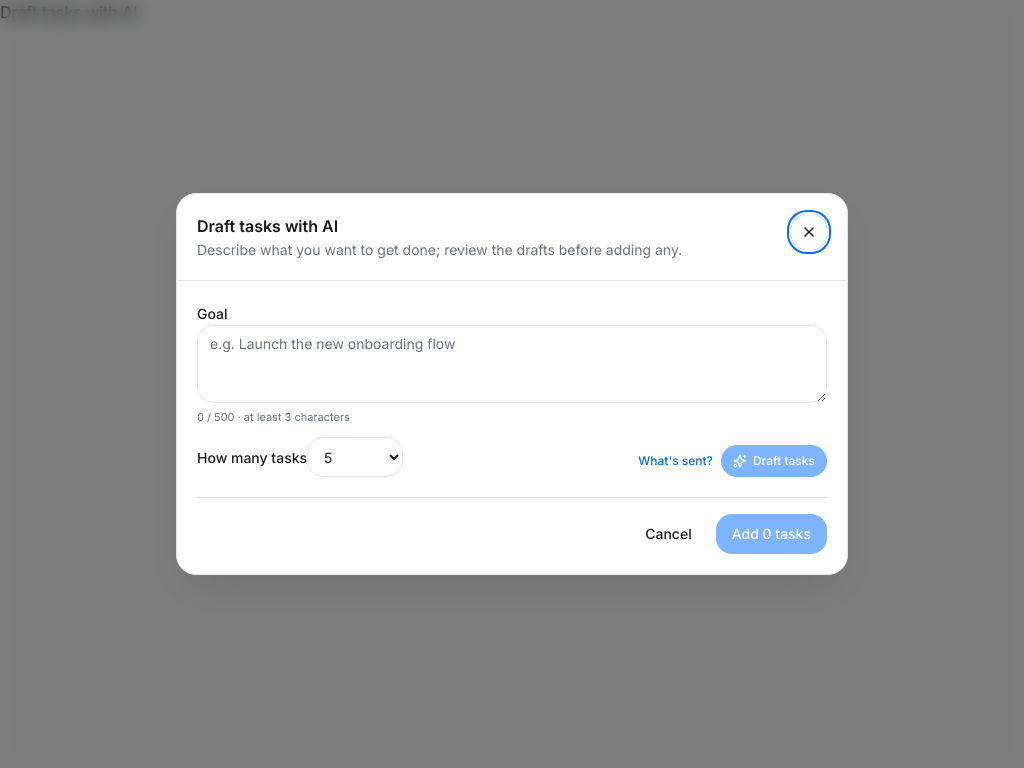
Test: reviewing and adding › creates nothing until Add, then each ticked draft as edited, one by one
Type "Launch the new onboarding" into the text box labelled "Goal" at {"x": 512, "y": 364}, box 197,325 -> 827,403
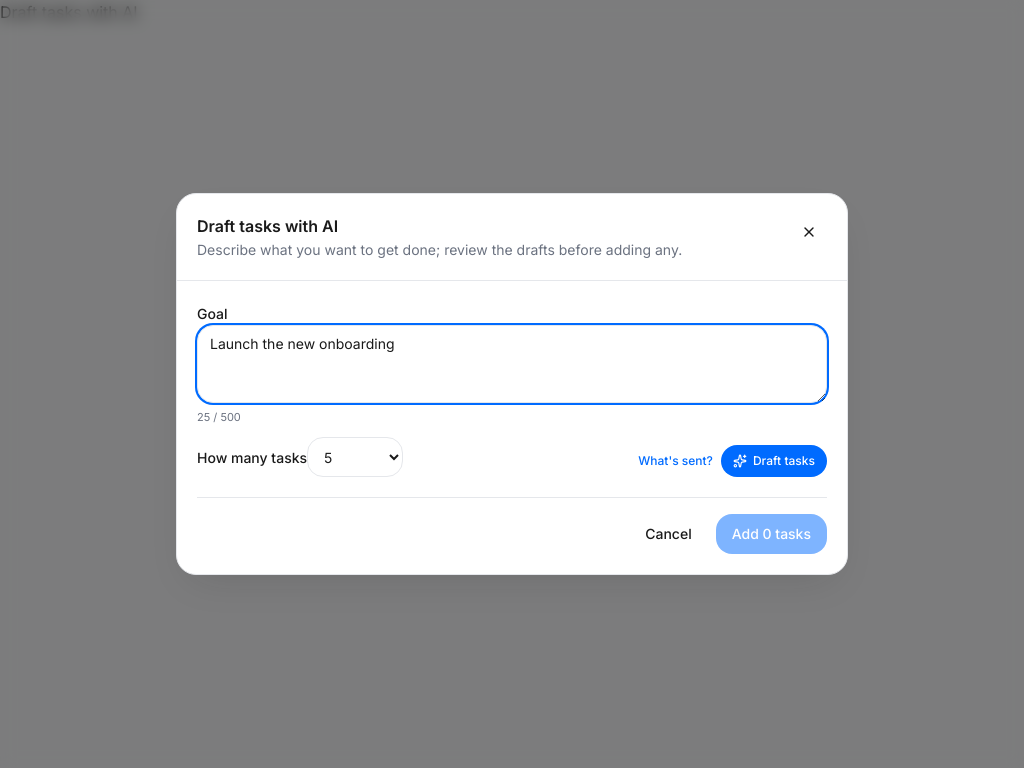
Click the button "Draft tasks" at {"x": 774, "y": 461}, box 721,445 -> 827,477
(page scrolled)
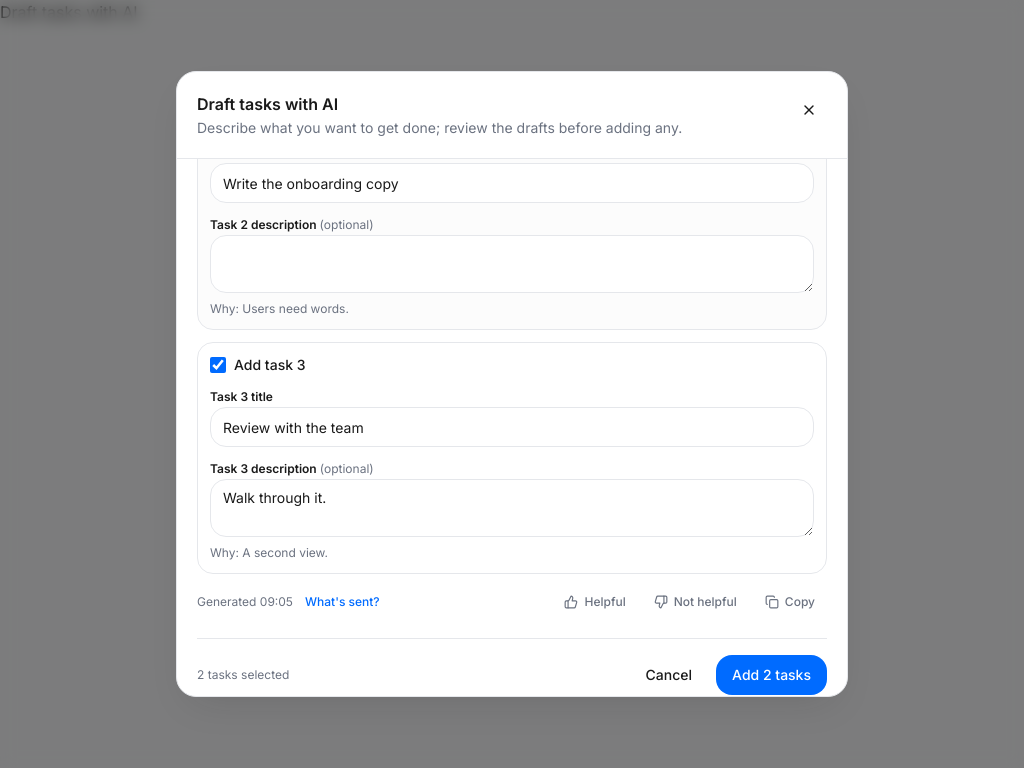
Replace the text in the field labelled "Task 3 title" with "  Review the flow with the team " at {"x": 512, "y": 427}, box 210,407 -> 814,447
(page scrolled)
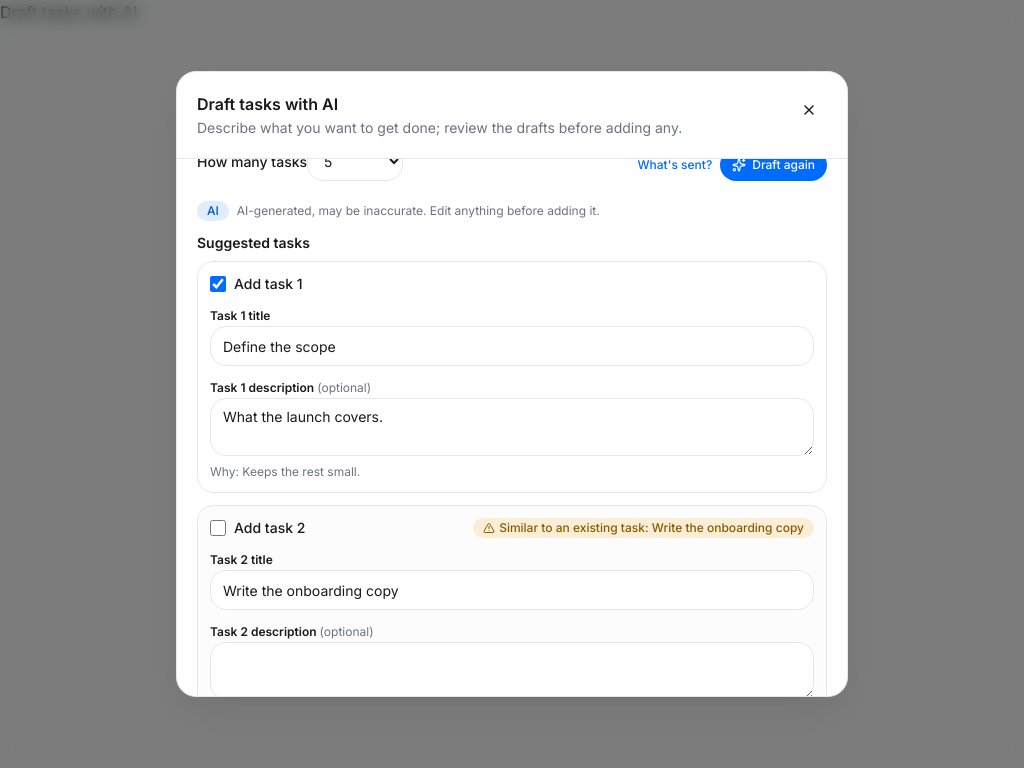
Clear the text box labelled "Task 1 description (optional)" at {"x": 512, "y": 427}, box 210,398 -> 814,456
(page scrolled)
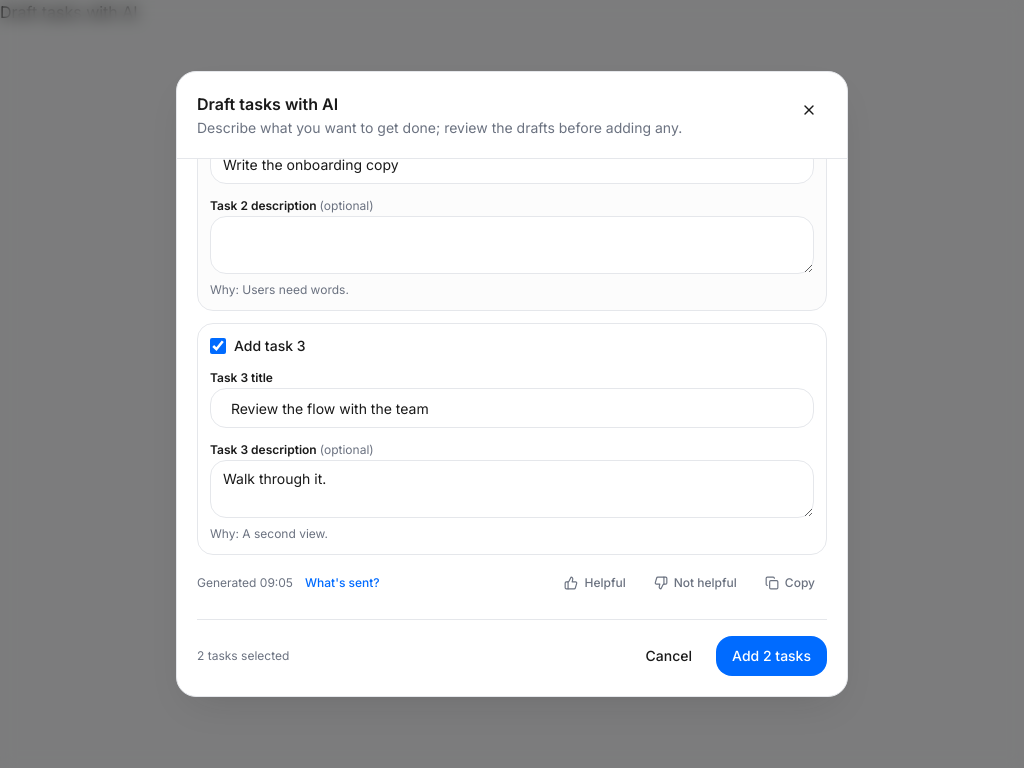
Click the button "Add 2 tasks" at {"x": 772, "y": 656}, box 716,636 -> 827,676
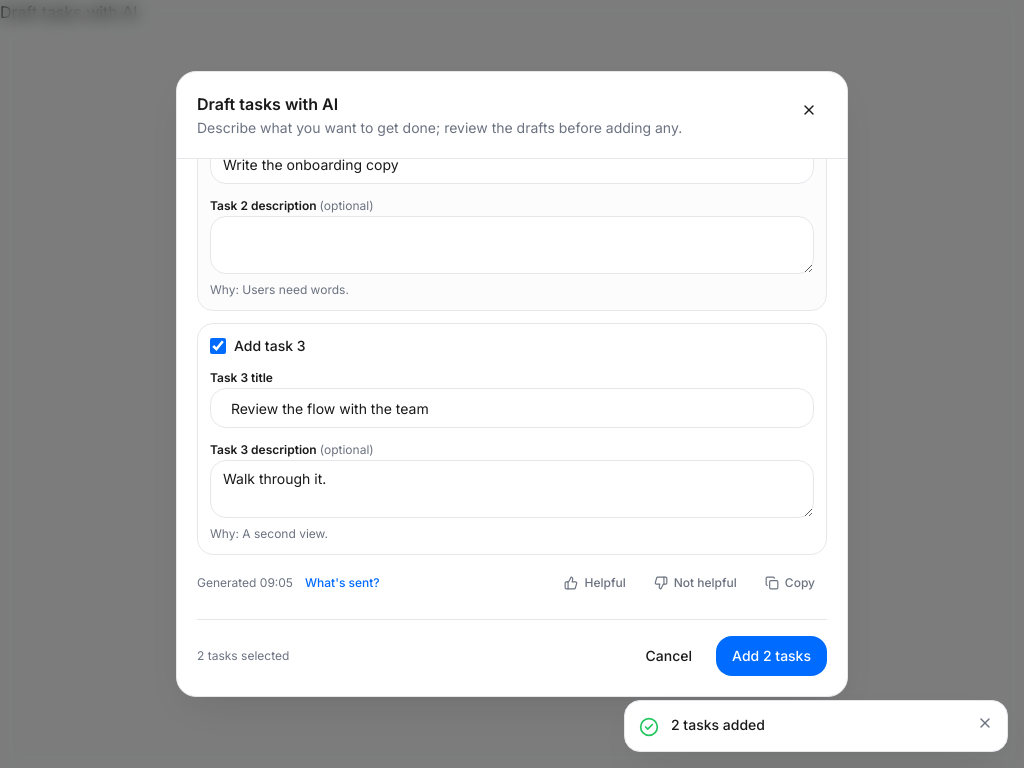
Now the text "2 tasks added" is shown, box 671,716 -> 765,733
